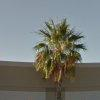Palm tree: (36, 12, 85, 98)
